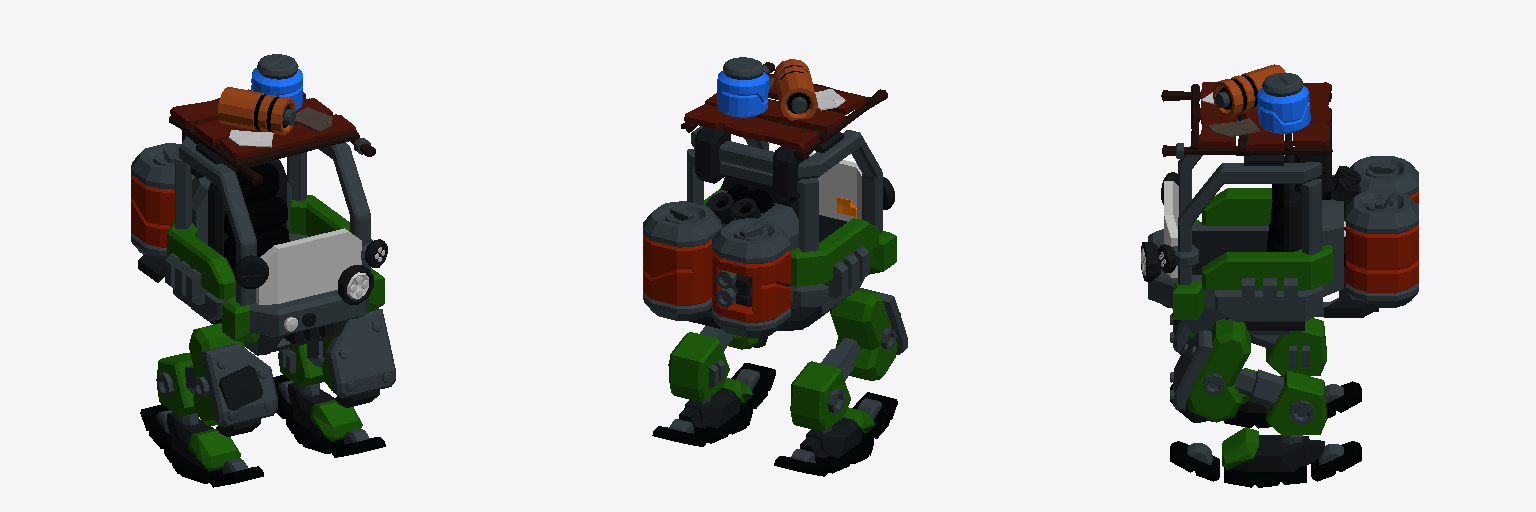
The model's file is vehicle_mech.obj.
The picture shows the model from 3 angles: view 1: azimuth 30°, elevation 25°; view 2: azimuth 150°, elevation 25°; view 3: azimuth 270°, elevation 25°; orthographic projection.
Parts seen in each view (by area): view 1: mech_Cube.712; view 2: mech_Cube.712; view 3: mech_Cube.712.
Boxes of the visible parts, <box> form: mech_Cube.712: <box>131,54,395,487</box>; mech_Cube.712: <box>643,57,907,476</box>; mech_Cube.712: <box>1141,64,1418,487</box>.
Bounding box in the file's own units: 2.21 × 4.43 × 2.97.